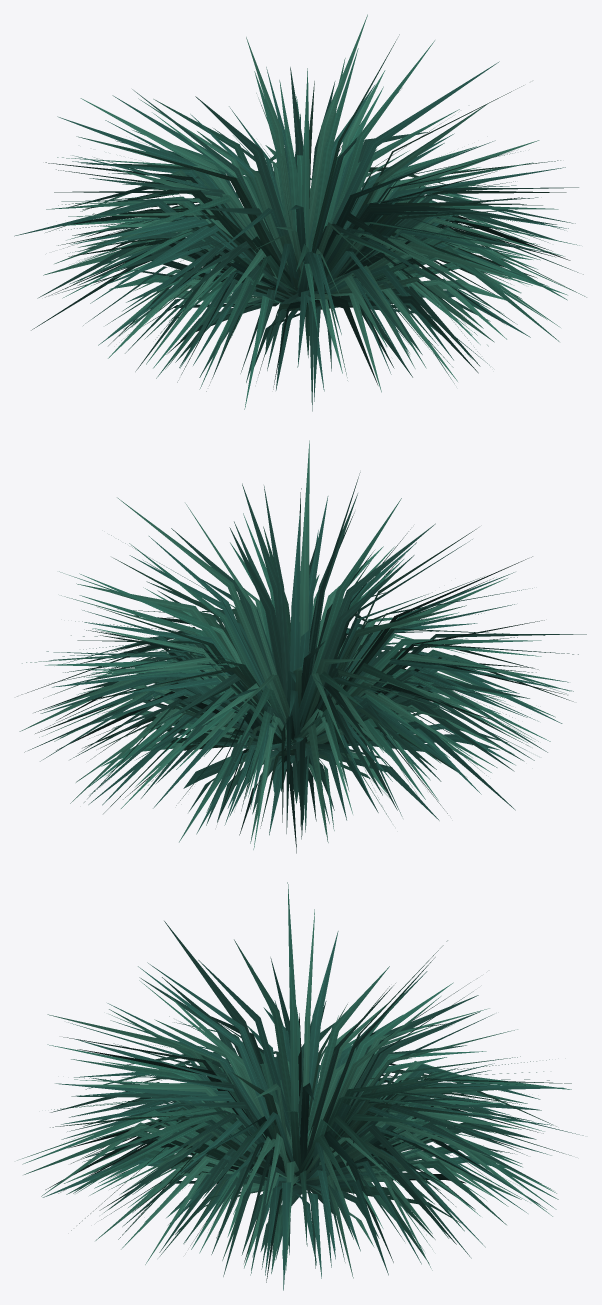
File: shade_grass_v02_LOD1.fbx
3 views of the same model, one above another, from view 1: azimuth 30°, elevation 25°; view 2: azimuth 150°, elevation 25°; view 3: azimuth 270°, elevation 25° (orthographic). The views are drawn at different scales.
Visible parts, largest first — view 1: shade_grass_v02_LOD1; view 2: shade_grass_v02_LOD1; view 3: shade_grass_v02_LOD1.
Boxes of the visible parts, left/top/right/bottom form: shade_grass_v02_LOD1: left=14, top=14, right=586, bottom=411; shade_grass_v02_LOD1: left=17, top=440, right=586, bottom=853; shade_grass_v02_LOD1: left=17, top=882, right=583, bottom=1290.
Size of the model in its own units: 78.18 by 79.38 by 31.27.
1 material, 1 textured.
